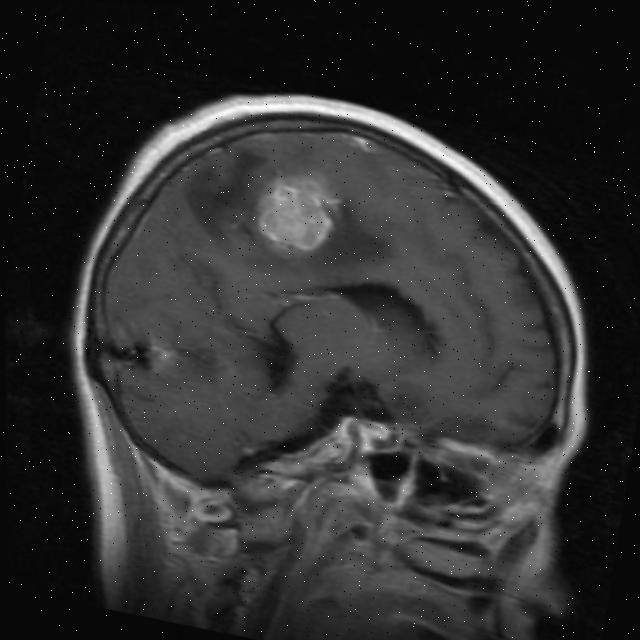Meningioma: (246, 169, 346, 258)
